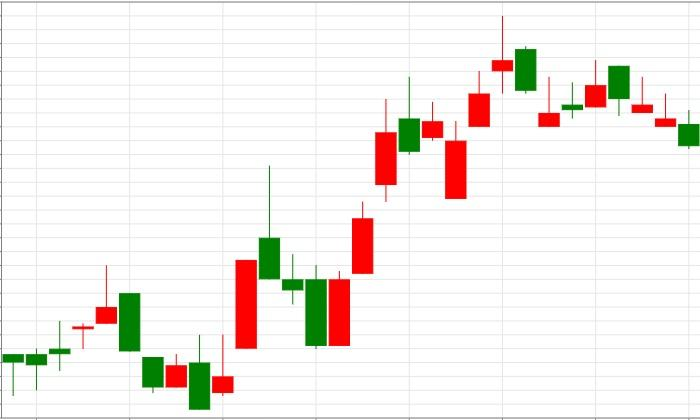three_white_soldiers_rise: (259, 98, 397, 349)
